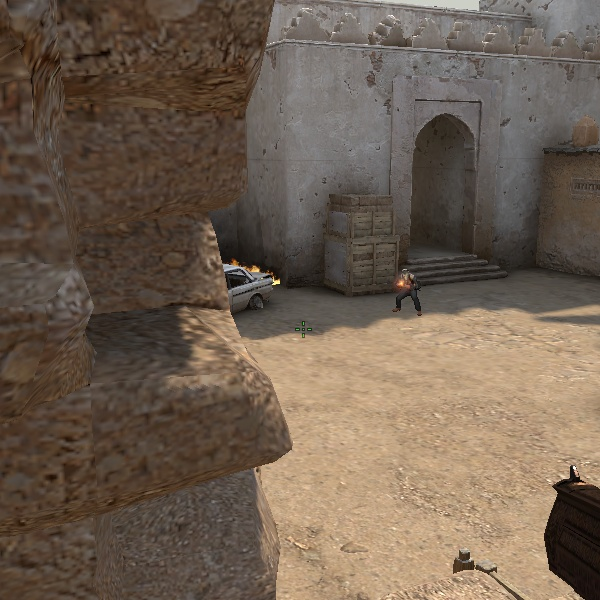t_body: (391, 268, 421, 314)
t_head: (399, 267, 414, 283)
